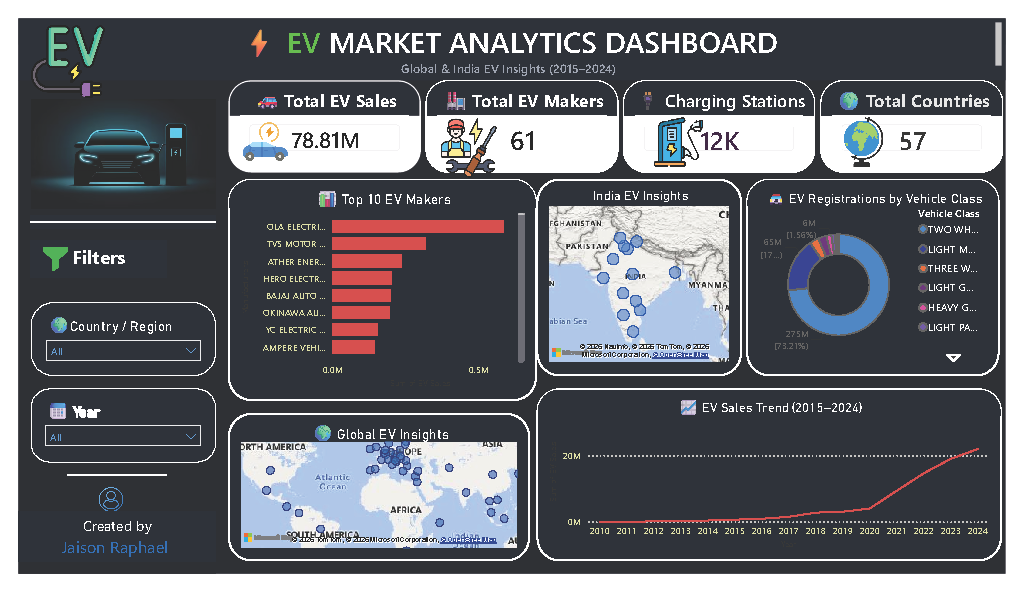

Layout of this report page (visuals, bound fields, positions):
{"tool":"powerbi","page":{"name":"Page 1","canvas":[1280,720],"ordinal":0},"visuals":[{"type":"textbox","box":[0,80,256,640],"z":0},{"type":"textbox","box":[0,0,1280,80],"z":1000},{"type":"cardVisual","title":"🚗 Total EV Sales","fields":{"Data":["Sum(ev_market_analytics global_ev_sales.EV Sales)"]},"box":[272,80,250,120],"z":2000},{"type":"lineChart","title":"📈 EV Sales Trend (2015–2024)","fields":{"Category":["ev_market_analytics global_ev_sales.Year"],"Y":["Sum(ev_market_analytics global_ev_sales.EV Sales)"]},"box":[672,480,603,224],"z":3000},{"type":"clusteredBarChart","title":"📊 Top 10 EV Makers","fields":{"Category":["ev_market_analytics makers_sales.Maker"],"Y":["Sum(ev_market_analytics makers_sales.EV Sales)"]},"box":[272,208,400,288],"z":4000},{"type":"donutChart","title":"🚘 EV Registrations by Vehicle Class","fields":{"Category":["ev_market_analytics vehicle_class.Vehicle Class"],"Y":["Sum(ev_market_analytics vehicle_class.Total Registration)"]},"box":[944,208,328,256],"z":5000},{"type":"map","title":"🌍 Global EV Insights","fields":{"Category":["ev_market_analytics global_ev_sales.region_country"],"Size":["CountNonNull(ev_market_analytics global_ev_sales.EV Sales)"]},"box":[272,512,391,192],"z":6000},{"type":"slicer","title":"📅 Year","fields":{"Values":["ev_market_analytics global_ev_sales.Year"]},"box":[16,480,240,96],"z":7000},{"type":"slicer","fields":{"Values":["ev_market_analytics global_ev_sales.region_country"]},"box":[16,368,240,96],"z":8000},{"type":"cardVisual","title":"🏭 Total EV Makers","fields":{"Data":["ev_market_analytics charging_stations.Total_EV_Makers"]},"box":[528,80,250,120],"z":9000},{"type":"cardVisual","title":"🔌 Charging Stations","fields":{"Data":["ev_market_analytics charging_stations.Total_Charging_Stations"]},"box":[784,80,249,120],"z":10000},{"type":"cardVisual","title":"🌍 Total Countries","fields":{"Data":["ev_market_analytics charging_stations.Total_Countries"]},"box":[1040,80,237,120],"z":11000},{"type":"map","title":"India EV Insights","fields":{"Category":["ev_market_analytics maker_place.State"],"Size":["Sum(ev_market_analytics global_ev_sales.EV Sales)"]},"box":[672,208,266,256],"z":12000},{"type":"image","box":[16,64,240,224],"z":13000},{"type":"image","box":[1040,128,112,64],"z":14000},{"type":"image","box":[528,128,112,80],"z":15000},{"type":"textbox","box":[16,288,176,48],"z":16000},{"type":"image","box":[32,288,32,48],"z":17000},{"type":"image","box":[800,128,112,64],"z":18000},{"type":"image","box":[272,128,96,64],"z":19000},{"type":"image","box":[16,0,96,112],"z":20000},{"type":"image","box":[96,608,48,32],"z":21000},{"type":"textbox","box":[0,640,256,64],"z":22000},{"type":"shape","box":[16,256,240,16],"z":23000},{"type":"shape","box":[64,528,128,128],"z":24000}]}

Visuals, with their boxes in screenshot pixels (x1, y1, x2, y2), scaled from the page's 1280x720 canvas onto the 1024x592 screenshot:
textbox: crop(0, 66, 205, 591)
textbox: crop(0, 0, 1023, 66)
"🚗 Total EV Sales" cardVisual: crop(218, 66, 418, 164)
"📈 EV Sales Trend (2015–2024)" lineChart: crop(538, 395, 1020, 579)
"📊 Top 10 EV Makers" clusteredBarChart: crop(218, 171, 538, 408)
"🚘 EV Registrations by Vehicle Class" donutChart: crop(755, 171, 1018, 382)
"🌍 Global EV Insights" map: crop(218, 421, 530, 579)
"📅 Year" slicer: crop(13, 395, 205, 474)
slicer - ev_market_analytics global_ev_sales.region_country: crop(13, 303, 205, 382)
"🏭 Total EV Makers" cardVisual: crop(422, 66, 622, 164)
"🔌 Charging Stations" cardVisual: crop(627, 66, 826, 164)
"🌍 Total Countries" cardVisual: crop(832, 66, 1022, 164)
"India EV Insights" map: crop(538, 171, 750, 382)
image: crop(13, 53, 205, 237)
image: crop(832, 105, 922, 158)
image: crop(422, 105, 512, 171)
textbox: crop(13, 237, 154, 276)
image: crop(26, 237, 51, 276)
image: crop(640, 105, 730, 158)
image: crop(218, 105, 294, 158)
image: crop(13, 0, 90, 92)
image: crop(77, 500, 115, 526)
textbox: crop(0, 526, 205, 579)
shape: crop(13, 210, 205, 224)
shape: crop(51, 434, 154, 539)
